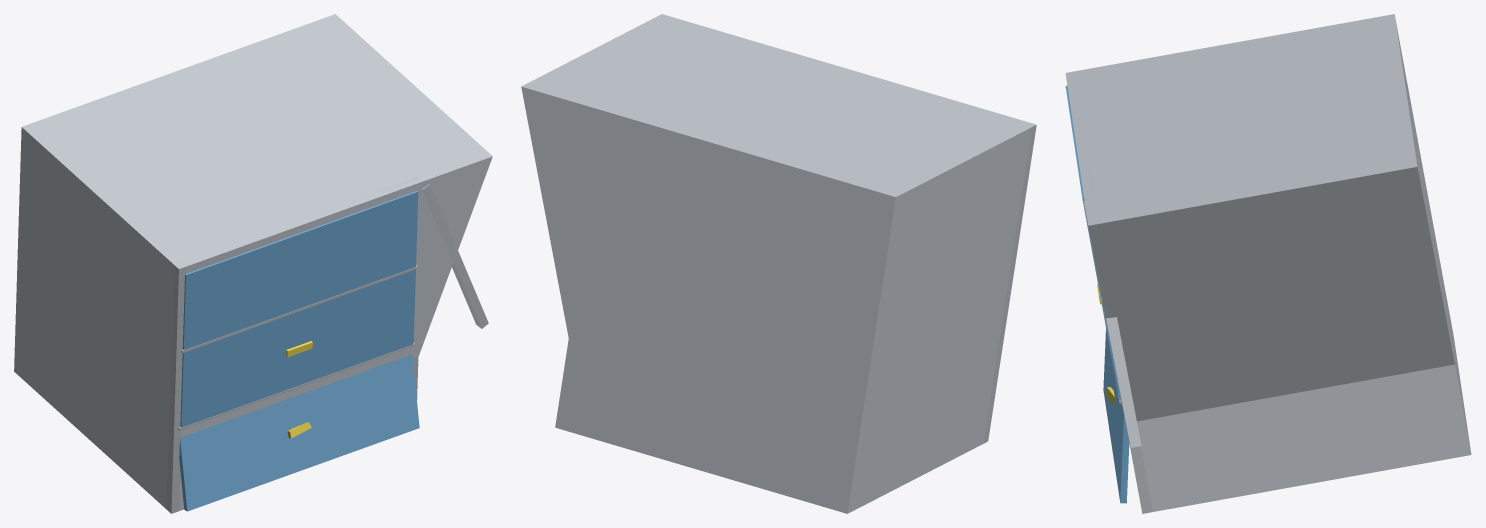
Rendered from UnstableULD.fbx.
3 views of the same model, side by side, from view 1: azimuth 30°, elevation 25°; view 2: azimuth 150°, elevation 25°; view 3: azimuth 270°, elevation 25° (orthographic). The views are drawn at different scales.
Parts seen in each view (by area): view 1: AKE_Aluminum_Shell, Door_Panel_Blue_0, Door_Panel_Blue_2, Door_Panel_Blue_1, Frame_Post_Left, Frame_Post_TopRight, Frame_Header_Beam, Door_Rib_1, Door_Rib_2; view 2: AKE_Aluminum_Shell, Frame_Post_Left; view 3: AKE_Aluminum_Shell, Door_Panel_Blue_0, Frame_Post_TopRight, Frame_Post_Kink.
Boxes of the visible parts, left/top/right/bottom form: AKE_Aluminum_Shell: left=14, top=14, right=492, bottom=510; Door_Panel_Blue_0: left=179, top=354, right=419, bottom=511; Door_Panel_Blue_2: left=182, top=191, right=418, bottom=349; Door_Panel_Blue_1: left=180, top=269, right=415, bottom=427; Frame_Post_Left: left=166, top=262, right=186, bottom=513; Frame_Post_TopRight: left=422, top=184, right=488, bottom=328; Frame_Header_Beam: left=173, top=176, right=422, bottom=276; Door_Rib_1: left=178, top=343, right=415, bottom=430; Door_Rib_2: left=181, top=265, right=417, bottom=353; AKE_Aluminum_Shell: left=521, top=14, right=1036, bottom=513; Frame_Post_Left: left=983, top=125, right=1036, bottom=443; AKE_Aluminum_Shell: left=1065, top=14, right=1471, bottom=511; Door_Panel_Blue_0: left=1103, top=328, right=1129, bottom=503; Frame_Post_TopRight: left=1083, top=201, right=1141, bottom=448; Frame_Post_Kink: left=1130, top=446, right=1152, bottom=513.
Bounding box in the file's own units: 218 × 198 × 186.
